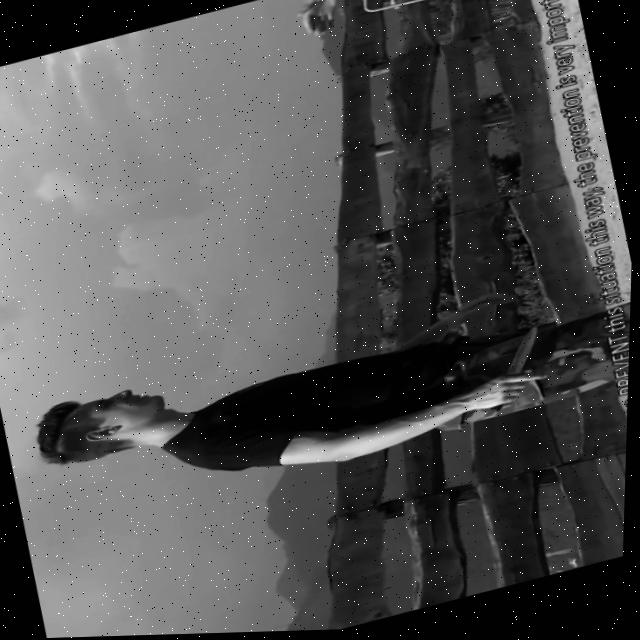knife: (501, 324, 559, 379)
